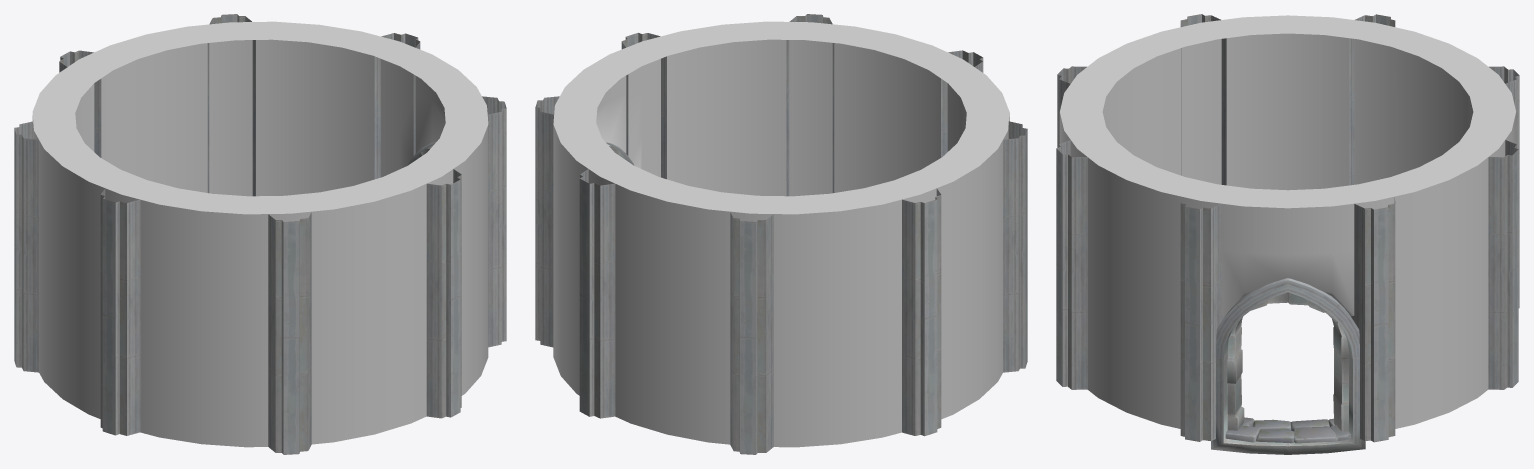
Rendered from SM_TowerB_Mid1Door.fbx.
The picture shows the model from 3 angles, left to right: view 1: azimuth 30°, elevation 25°; view 2: azimuth 150°, elevation 25°; view 3: azimuth 270°, elevation 25°; orthographic projection.
Parts seen in each view (by area): view 1: SM_TowerB_Mid1Door_LOD0; view 2: SM_TowerB_Mid1Door_LOD0; view 3: SM_TowerB_Mid1Door_LOD0.
Boxes of the visible parts, box(x1,y1,x2,y2) form: SM_TowerB_Mid1Door_LOD0: box(14, 14, 506, 454); SM_TowerB_Mid1Door_LOD0: box(535, 14, 1027, 454); SM_TowerB_Mid1Door_LOD0: box(1056, 14, 1519, 454).
Size of what is drawn, in the model's own units: 8.17 by 4.9 by 8.12.
